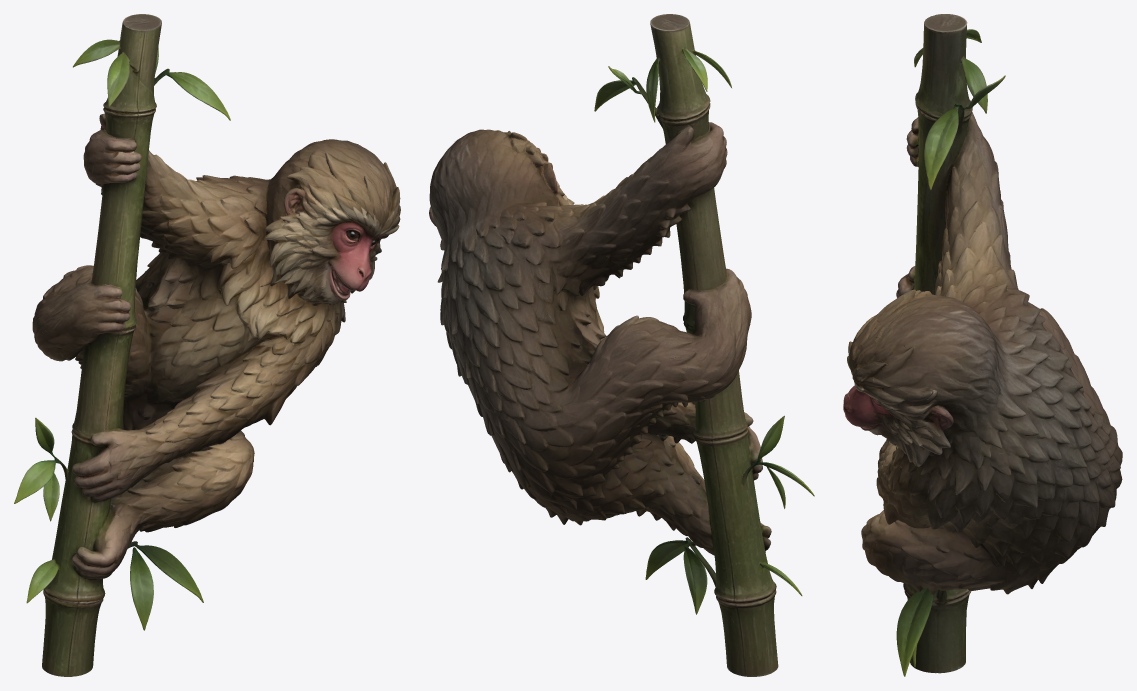
File: snow_monkey_on_bamboo.glb
3 views of the same model, side by side, from view 1: azimuth 30°, elevation 25°; view 2: azimuth 150°, elevation 25°; view 3: azimuth 270°, elevation 25° (orthographic). The views are drawn at different scales.
Visible parts, largest first — view 1: output_unwrapped; view 2: output_unwrapped; view 3: output_unwrapped.
Part boxes in pixels (x1,y1,x2,y2): output_unwrapped: (14,14,400,676); output_unwrapped: (429,14,814,676); output_unwrapped: (843,14,1122,676).
Size of the model in its own units: 1.21 by 1.9 by 0.707.
1 material, 1 textured.
